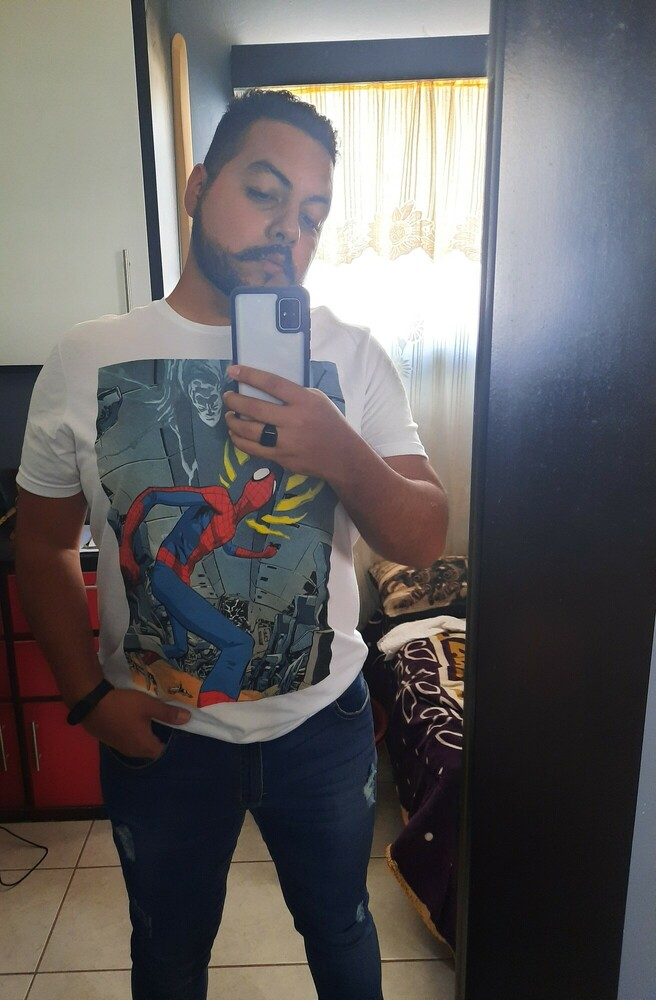Yoshi: (139, 56, 382, 334)
